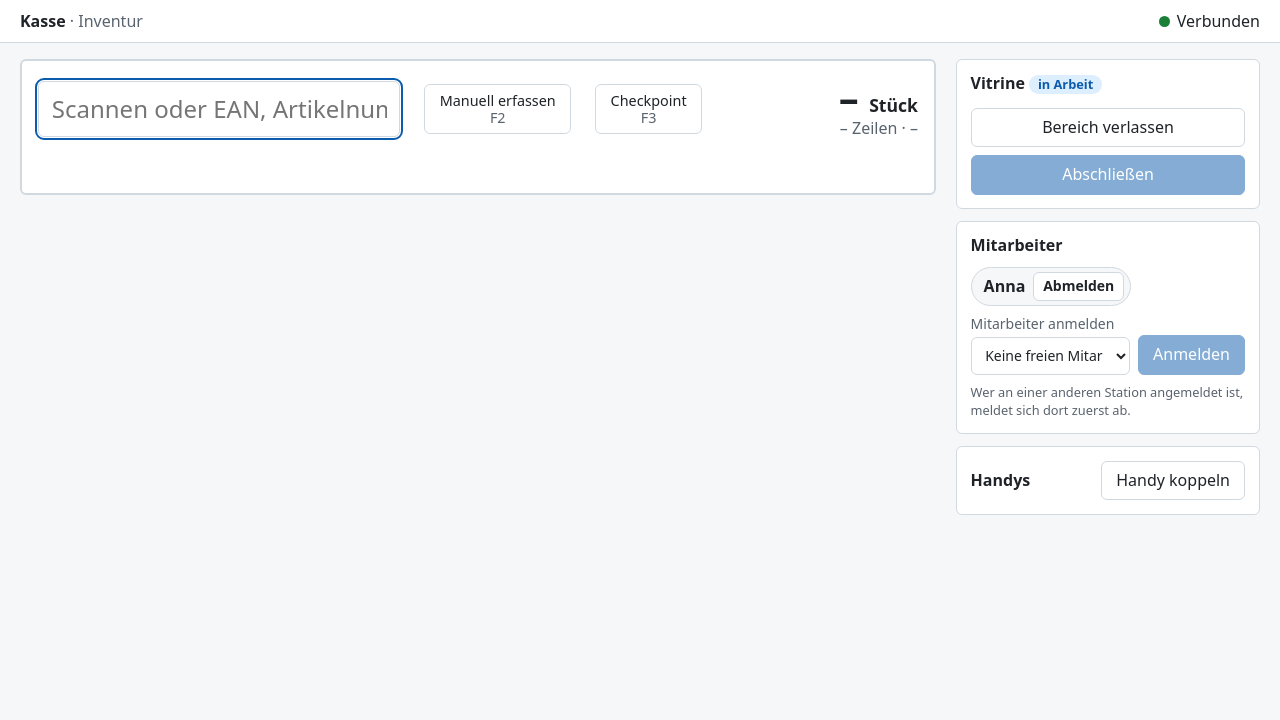
Test case: capture › cancels the choice with Esc without capturing
The image size is (1280, 720).
Type "4000000000031" into the field named "Eingabe: EAN" at (219, 109), box x1=38 y1=81 x2=400 y2=137
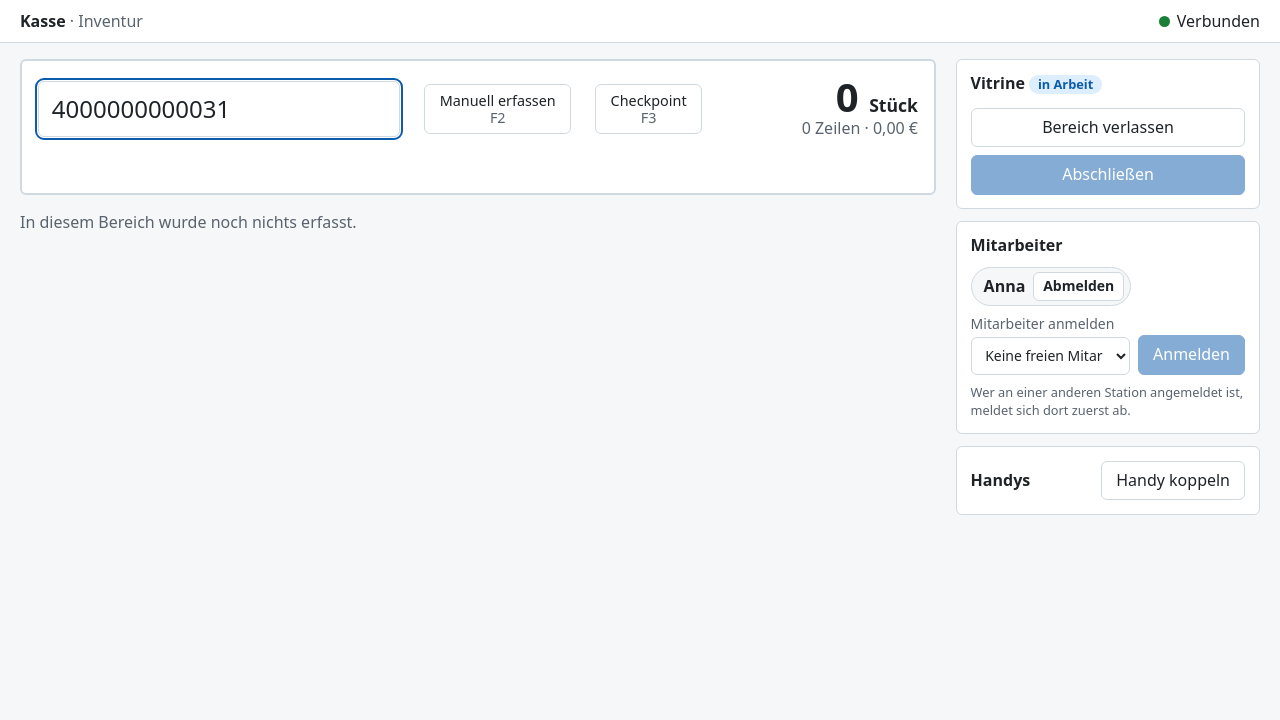
Press Enter in the field named "Eingabe: EAN", box x1=38 y1=81 x2=400 y2=137
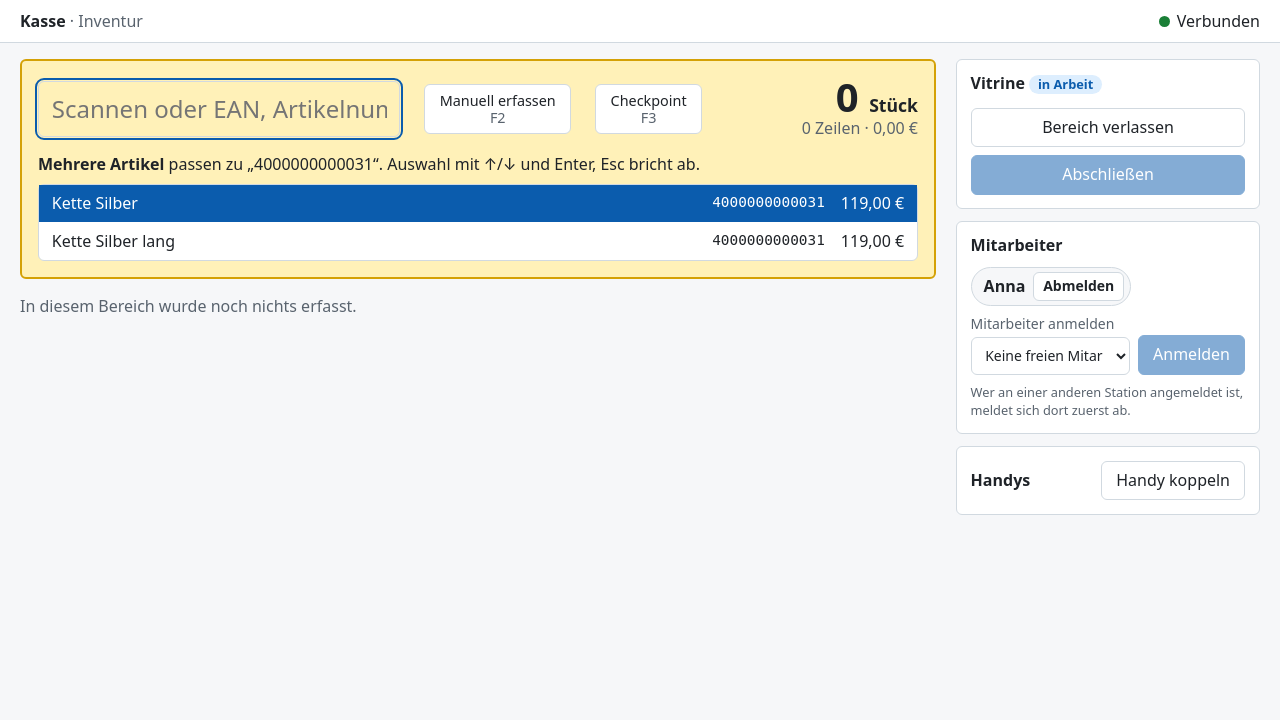
Result: the list named "Artikelauswahl" is shown at x1=38 y1=184 x2=918 y2=261
Press Escape in the field named "Eingabe: EAN", box x1=38 y1=81 x2=400 y2=137
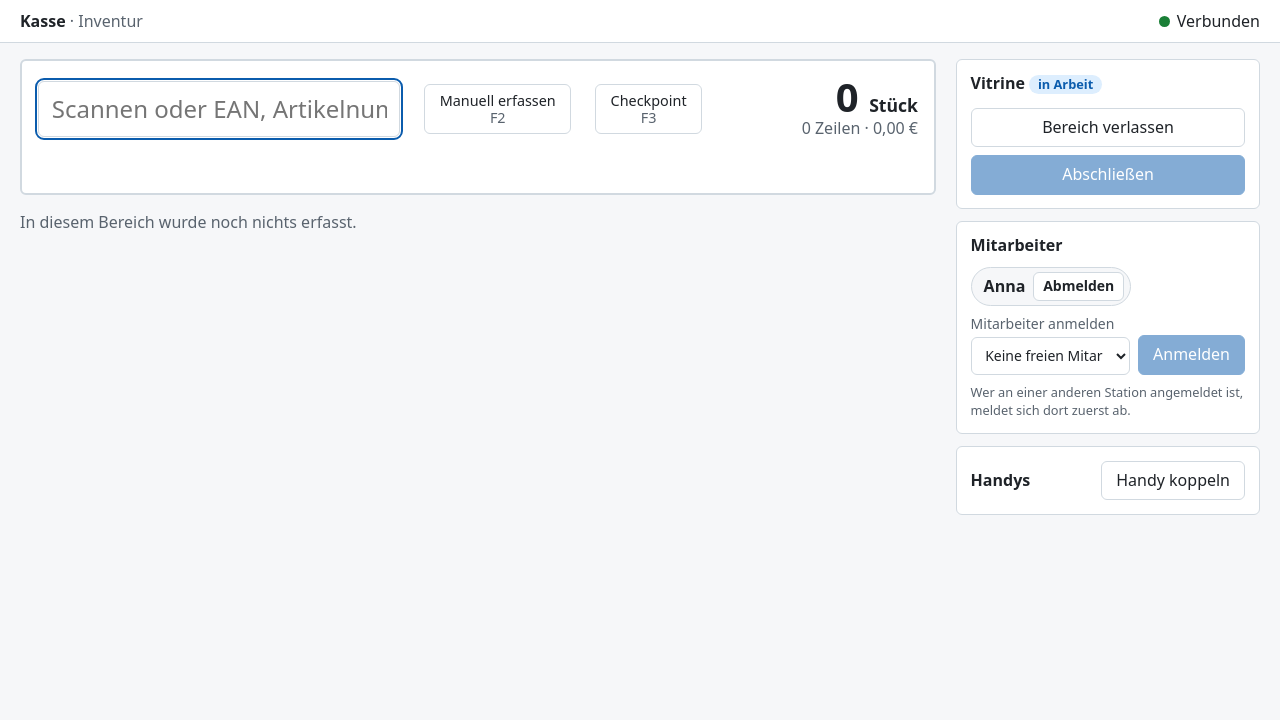
Result: the list "Artikelauswahl" is gone
